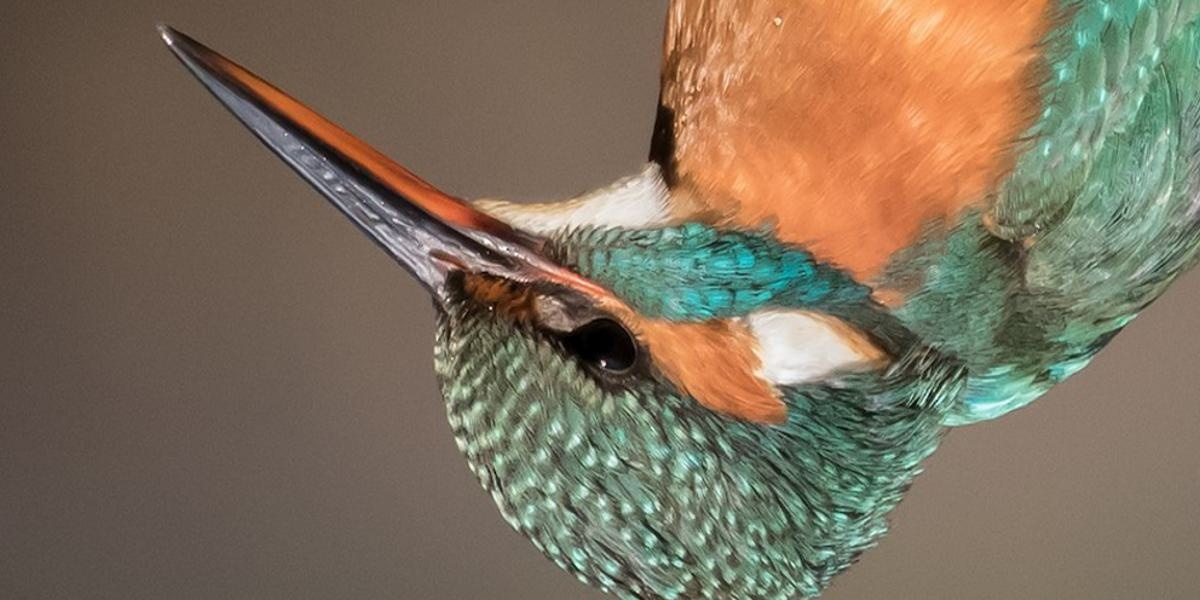kingfisher: (150, 3, 1200, 600)
